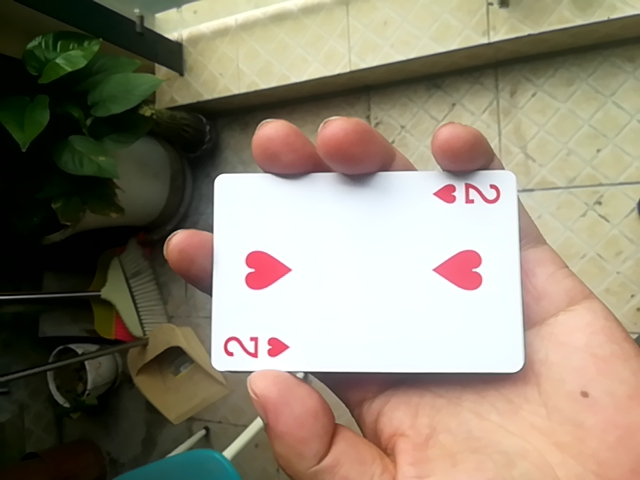hx 2: (205, 167, 535, 379)
